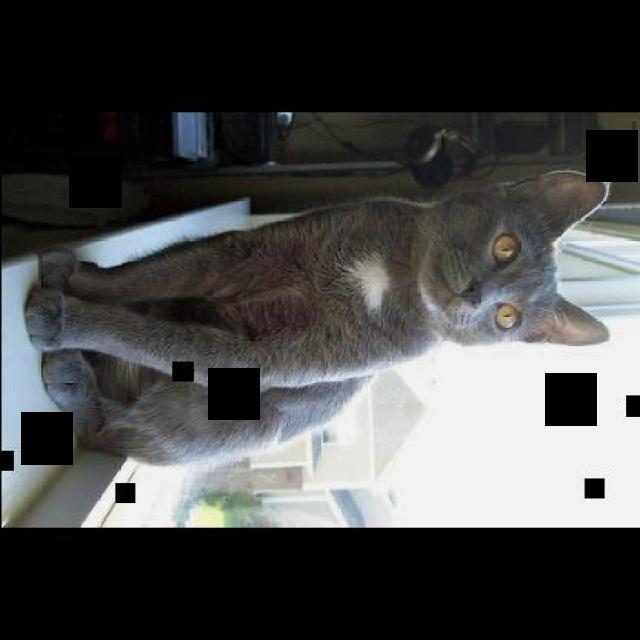unauthorized: (23, 166, 615, 466), (38, 346, 377, 468)
